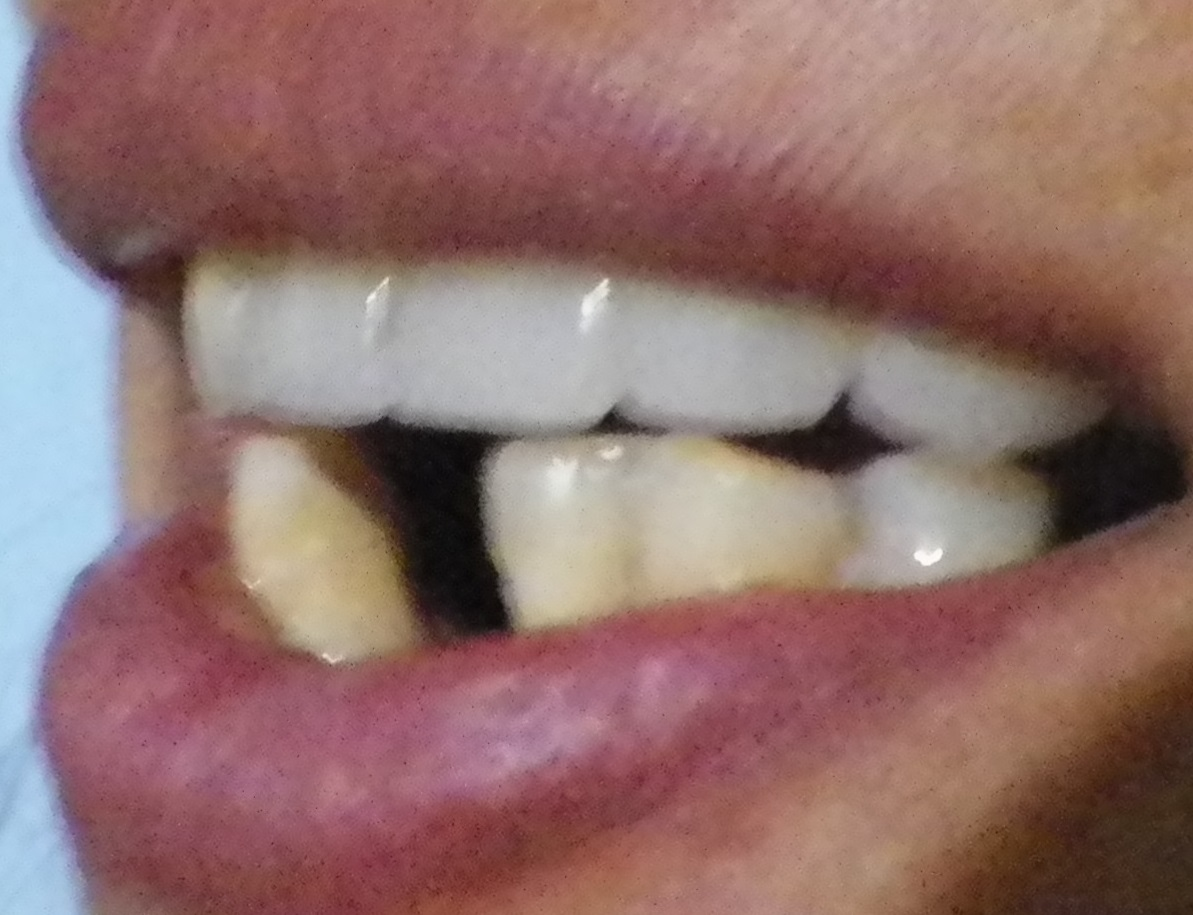boca: (176, 237, 1071, 674)
